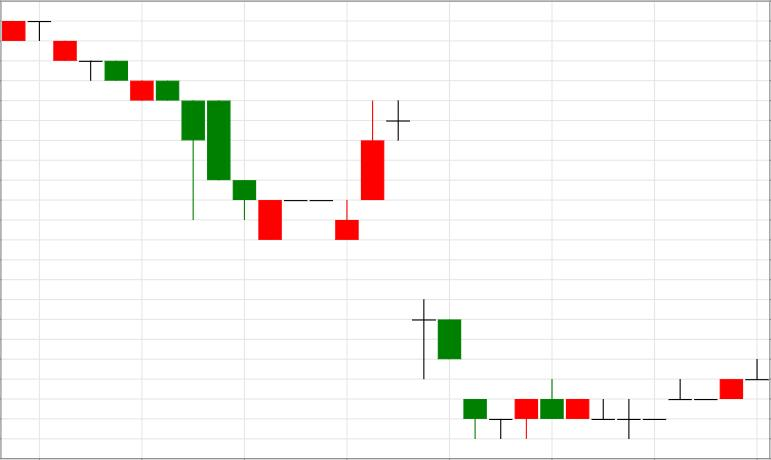hammer_rise: (2, 21, 204, 219)
